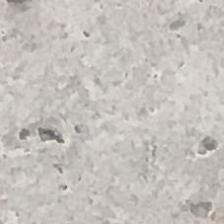Non_Crack: (9, 7, 200, 224)
